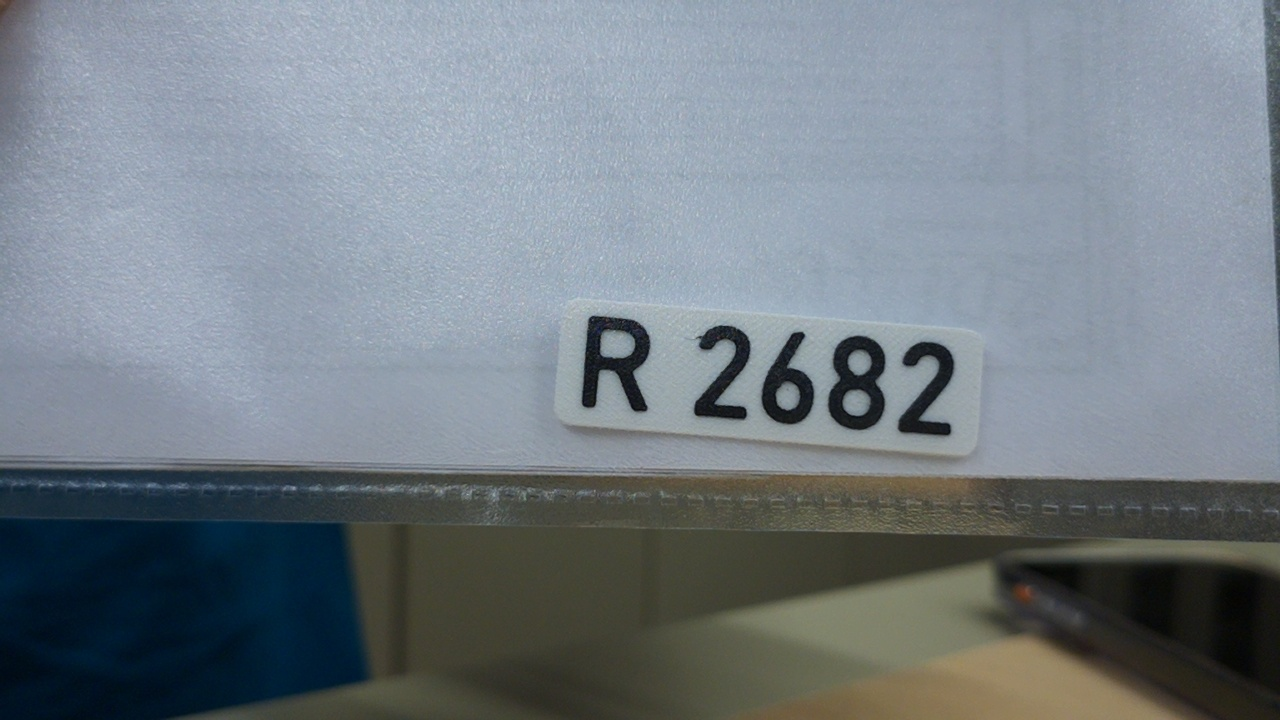license_plate: (552, 290, 988, 463)
